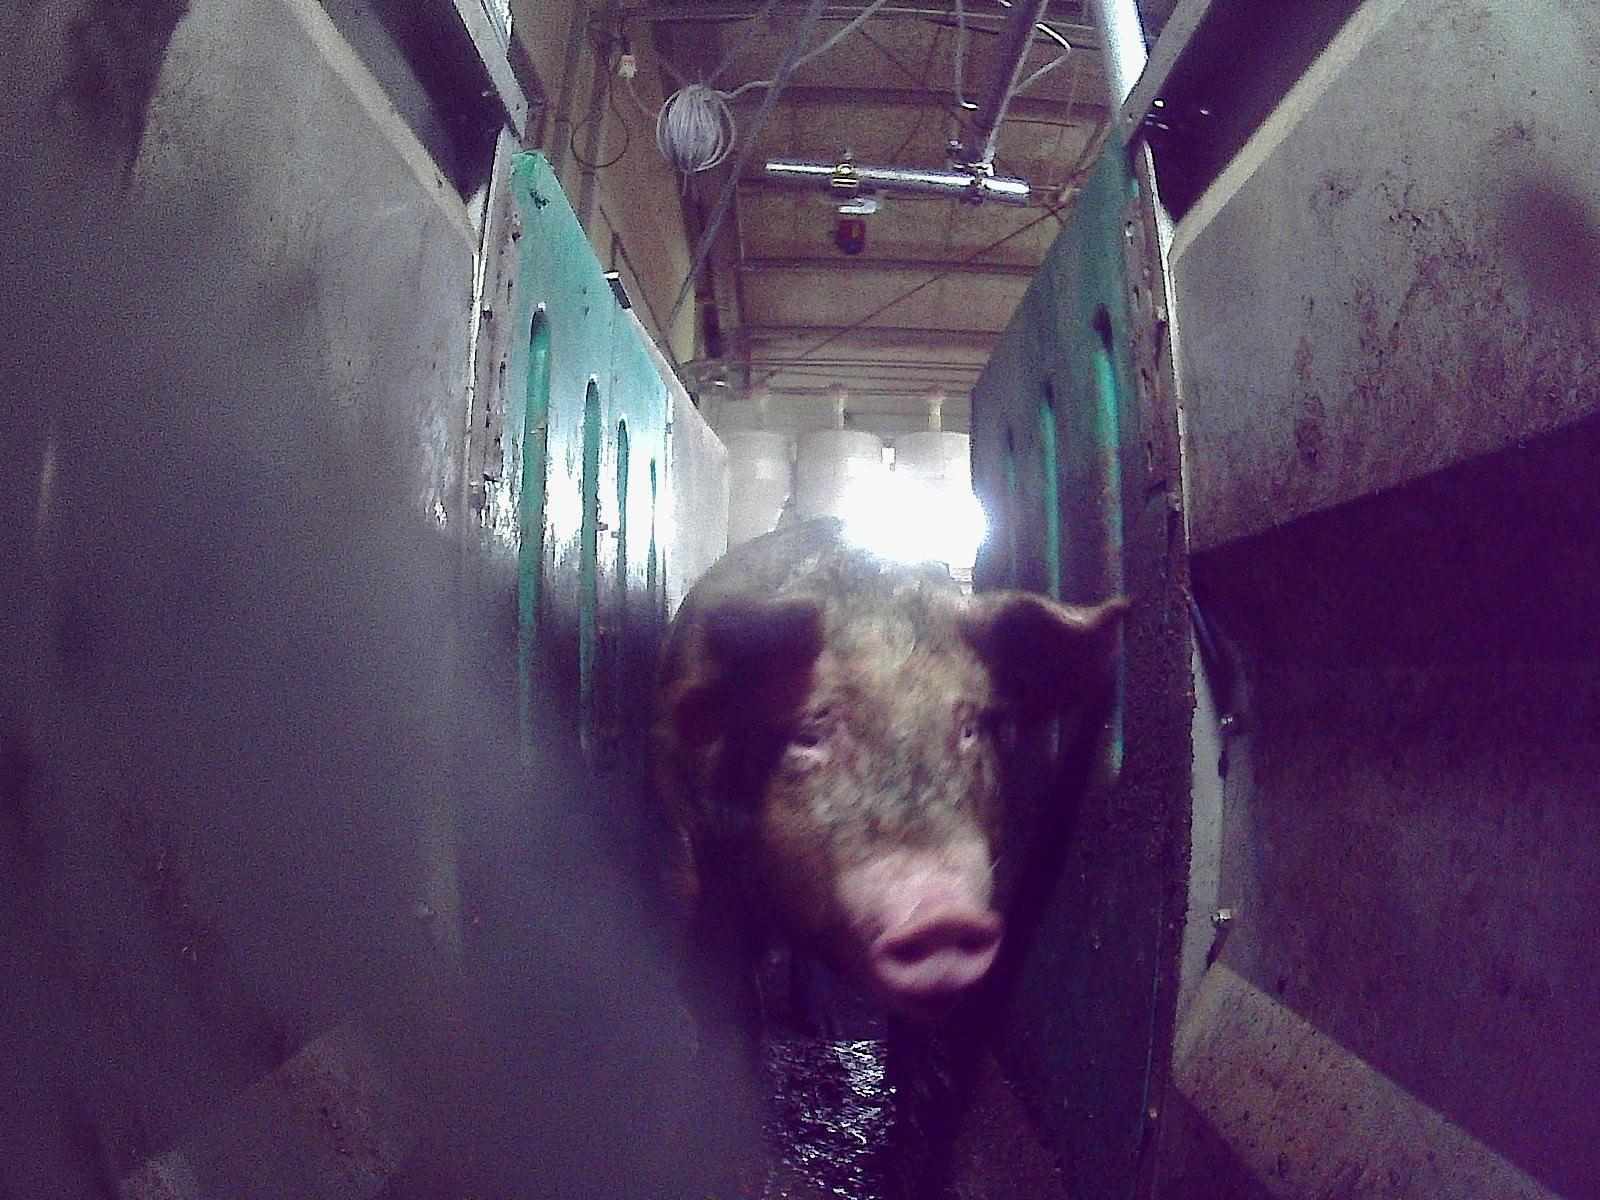Face: (736, 602, 1006, 996)
